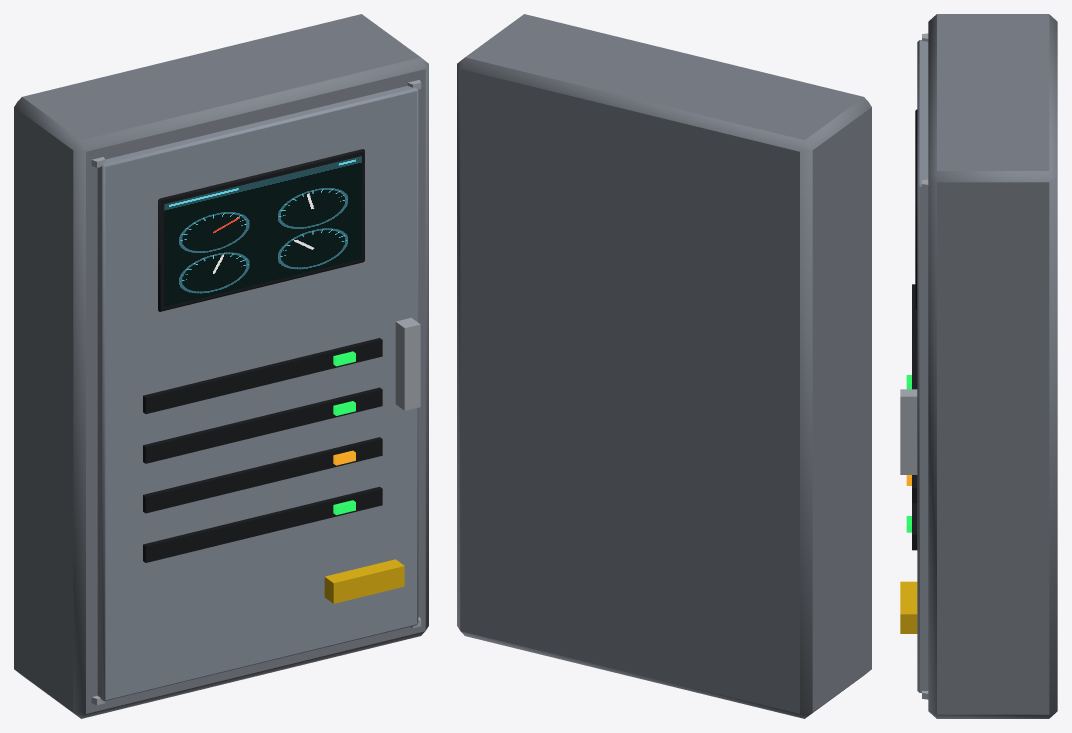
Rendered from capacitor_wall_battery_cabinet.glb.
3 views of the same model, side by side, from view 1: azimuth 30°, elevation 25°; view 2: azimuth 150°, elevation 25°; view 3: azimuth 270°, elevation 25° (orthographic). The views are drawn at different scales.
Visible parts, largest first — view 1: capacitor_wall_battery_cabinet; view 2: capacitor_wall_battery_cabinet; view 3: capacitor_wall_battery_cabinet.
Boxes of the visible parts, x1,y1,x2,y2 form: capacitor_wall_battery_cabinet: (14, 14, 428, 718); capacitor_wall_battery_cabinet: (457, 14, 871, 718); capacitor_wall_battery_cabinet: (900, 14, 1057, 718).
Bounding box in the file's own units: 0.9 × 1.4 × 0.365.
Materials: 8 (1 with a texture image).
